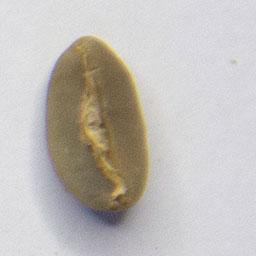premium: (40, 29, 154, 219)
